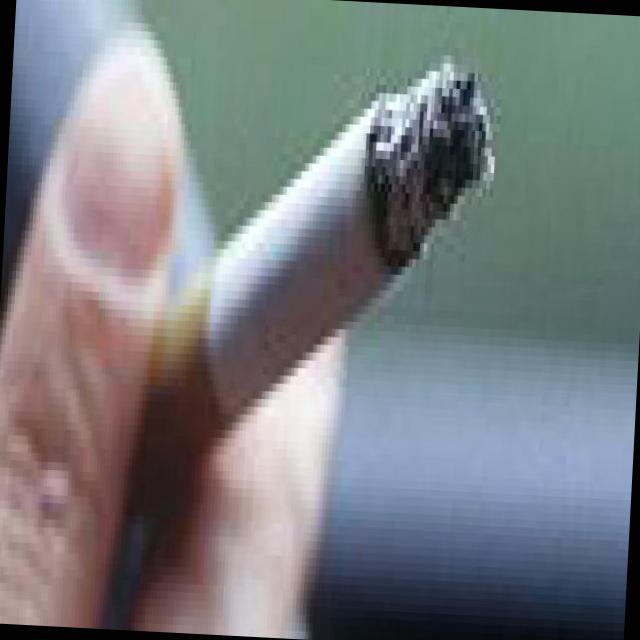cigarette: (153, 25, 515, 411)
